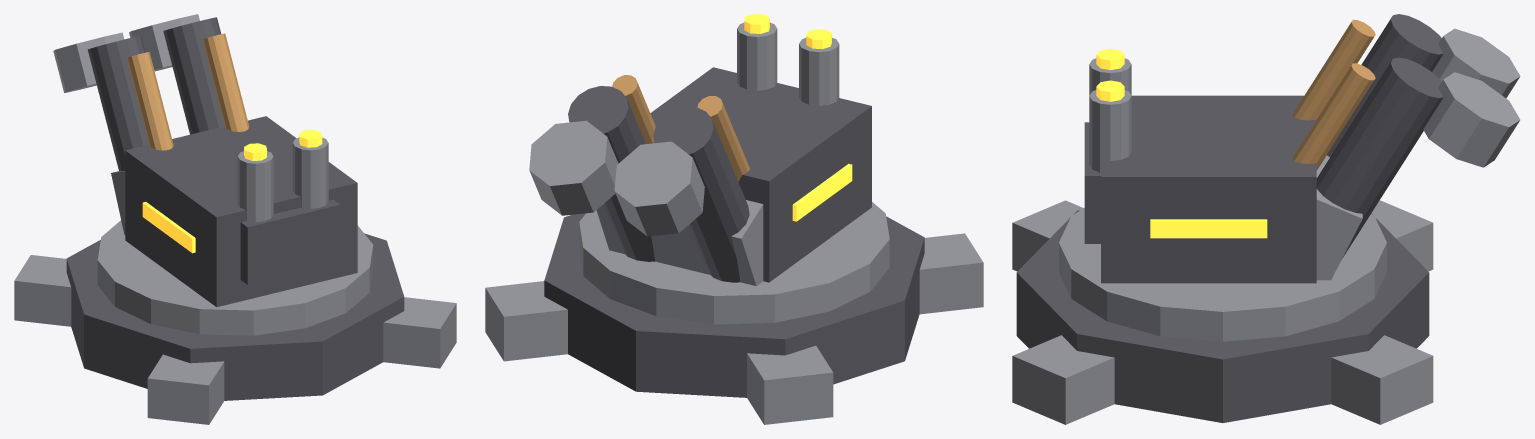
File: titanforge_turret.glb
The picture shows the model from 3 angles, left to right: view 1: azimuth 30°, elevation 25°; view 2: azimuth 150°, elevation 25°; view 3: azimuth 270°, elevation 25°; orthographic projection. The views are drawn at different scales.
Visible parts, largest first — view 1: Cylinder, Cube.004, Cylinder.001, Cube.006, Cube.002, Cylinder.002, Cube.003, Cylinder.005, Cube.001, Cylinder.004, Cylinder.007, Cylinder.009 (+5 smaller); view 2: Cylinder, Cube.004, Cylinder.001, Cylinder.002, Cylinder.003, Cylinder.006, Cube.001, Cube, Cylinder.005, Cube.002, Cube.005, Cylinder.009 (+6 smaller); view 3: Cube.004, Cylinder, Cylinder.001, Cylinder.005, Cube.003, Cube, Cylinder.006, Cylinder.002, Cylinder.003, Cylinder.007, Cylinder.004, Cylinder.009 (+8 smaller).
Part boxes in pixels (bbox=[...]): Cylinder: bbox=[66, 233, 404, 400]; Cube.004: bbox=[125, 116, 357, 307]; Cylinder.001: bbox=[97, 220, 373, 335]; Cube.006: bbox=[240, 199, 340, 284]; Cube.002: bbox=[147, 354, 224, 424]; Cylinder.002: bbox=[88, 36, 148, 171]; Cube.003: bbox=[383, 297, 456, 368]; Cylinder.005: bbox=[163, 17, 224, 134]; Cube.001: bbox=[14, 255, 71, 326]; Cylinder.004: bbox=[126, 52, 173, 150]; Cylinder.007: bbox=[202, 33, 249, 131]; Cylinder.009: bbox=[292, 137, 328, 208]; Cylinder: bbox=[544, 213, 924, 397]; Cube.004: bbox=[650, 67, 871, 282]; Cylinder.001: bbox=[579, 202, 889, 324]; Cylinder.002: bbox=[653, 106, 749, 282]; Cylinder.003: bbox=[614, 141, 704, 236]; Cylinder.006: bbox=[529, 120, 618, 215]; Cube.001: bbox=[747, 345, 833, 424]; Cube: bbox=[485, 281, 567, 361]; Cylinder.005: bbox=[568, 86, 655, 261]; Cube.002: bbox=[919, 233, 983, 314]; Cube.005: bbox=[596, 200, 763, 286]; Cylinder.009: bbox=[737, 22, 777, 90]; Cube.004: bbox=[1101, 95, 1316, 283]; Cylinder: bbox=[1016, 210, 1429, 422]; Cylinder.001: bbox=[1059, 208, 1386, 341]; Cylinder.005: bbox=[1316, 57, 1443, 258]; Cube.003: bbox=[1012, 335, 1114, 424]; Cube: bbox=[1331, 335, 1433, 424]; Cylinder.006: bbox=[1423, 72, 1520, 167]; Cylinder.002: bbox=[1327, 14, 1443, 156]; Cylinder.003: bbox=[1432, 28, 1520, 98]; Cylinder.007: bbox=[1292, 63, 1375, 170]; Cylinder.004: bbox=[1292, 19, 1375, 120]; Cylinder.009: bbox=[1089, 90, 1131, 172].
Size of the model in its own units: 1.8 by 1.39 by 2.17.
